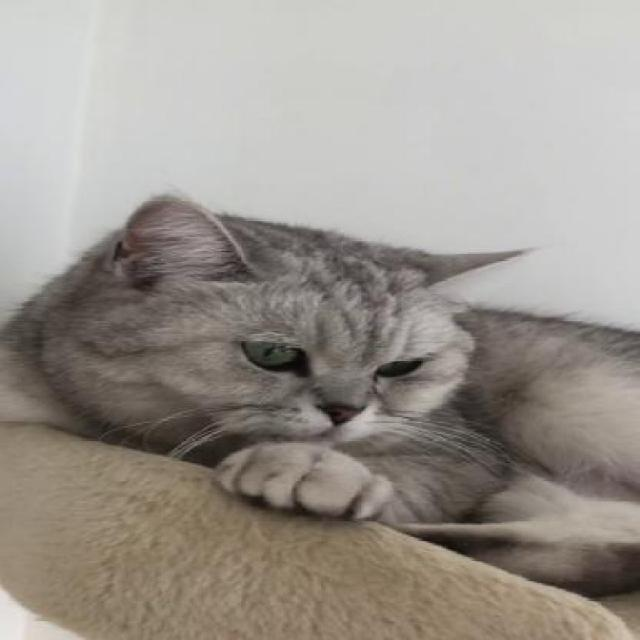cat-face: (71, 192, 544, 446)
